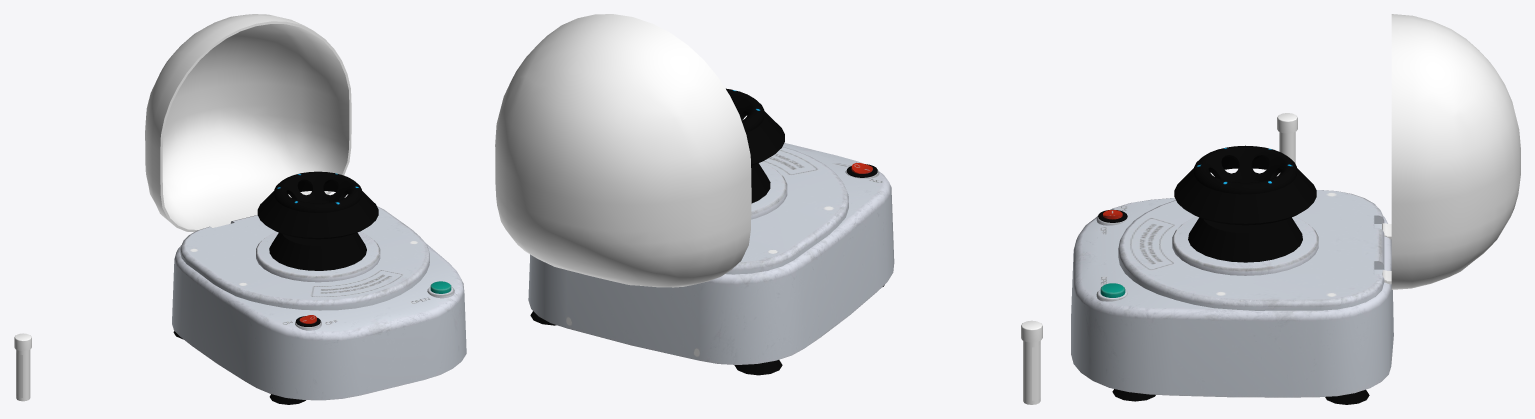
File: Centrifuge.fbx
The picture shows the model from 3 angles, left to right: view 1: azimuth 30°, elevation 25°; view 2: azimuth 150°, elevation 25°; view 3: azimuth 270°, elevation 25°; orthographic projection. The views are drawn at different scales.
Visible parts, largest first — view 1: Centrifuge_body, Centrifuge_glass, Centrifuge_rotor, Cryogenic_vial; view 2: Centrifuge_glass, Centrifuge_body, Centrifuge_rotor, Cryogenic_vial; view 3: Centrifuge_body, Centrifuge_glass, Centrifuge_rotor, Cryogenic_vial.
Part boxes in pixels (x1,y1,x2,y2): Centrifuge_body: (172, 206, 466, 404); Centrifuge_glass: (145, 14, 351, 232); Centrifuge_rotor: (257, 171, 378, 270); Cryogenic_vial: (14, 333, 31, 401); Centrifuge_glass: (495, 14, 751, 287); Centrifuge_body: (528, 143, 894, 375); Centrifuge_rotor: (726, 88, 784, 203); Cryogenic_vial: (1021, 320, 1042, 404); Centrifuge_body: (1071, 190, 1393, 404); Centrifuge_glass: (1382, 14, 1520, 289); Centrifuge_rotor: (1174, 145, 1316, 262); Cryogenic_vial: (1277, 113, 1297, 173).
Bounding box in the file's own units: 0.3866 × 0.2584 × 0.3266.
3 materials, 1 textured.
